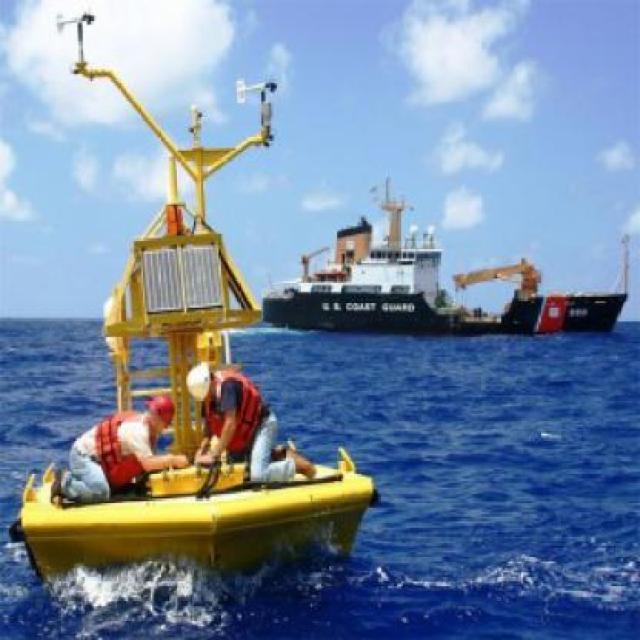buoy: (12, 7, 388, 587)
